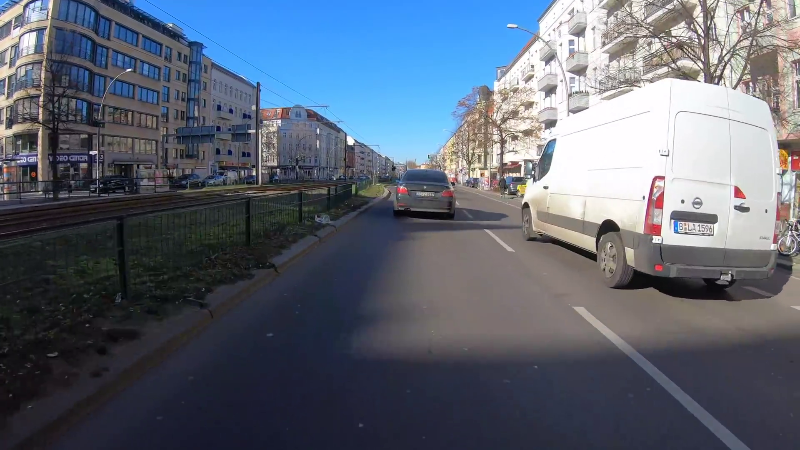Plate: (672, 219, 716, 236), (413, 188, 436, 196)
